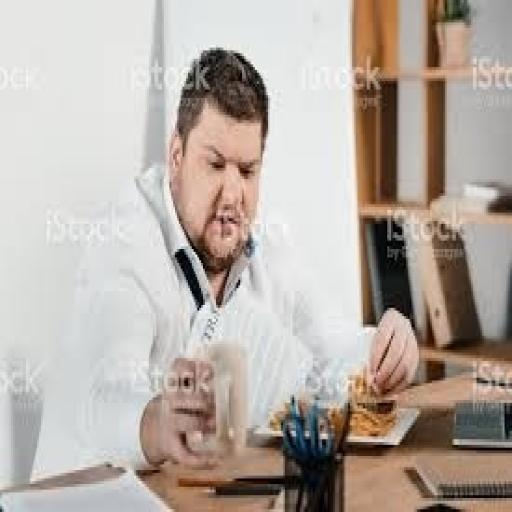eating: (32, 45, 420, 478)
